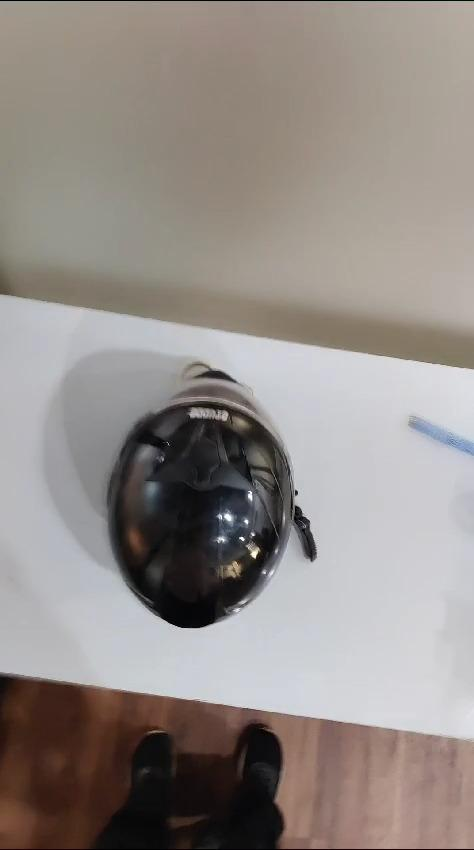Helmet: (112, 360, 293, 636)
